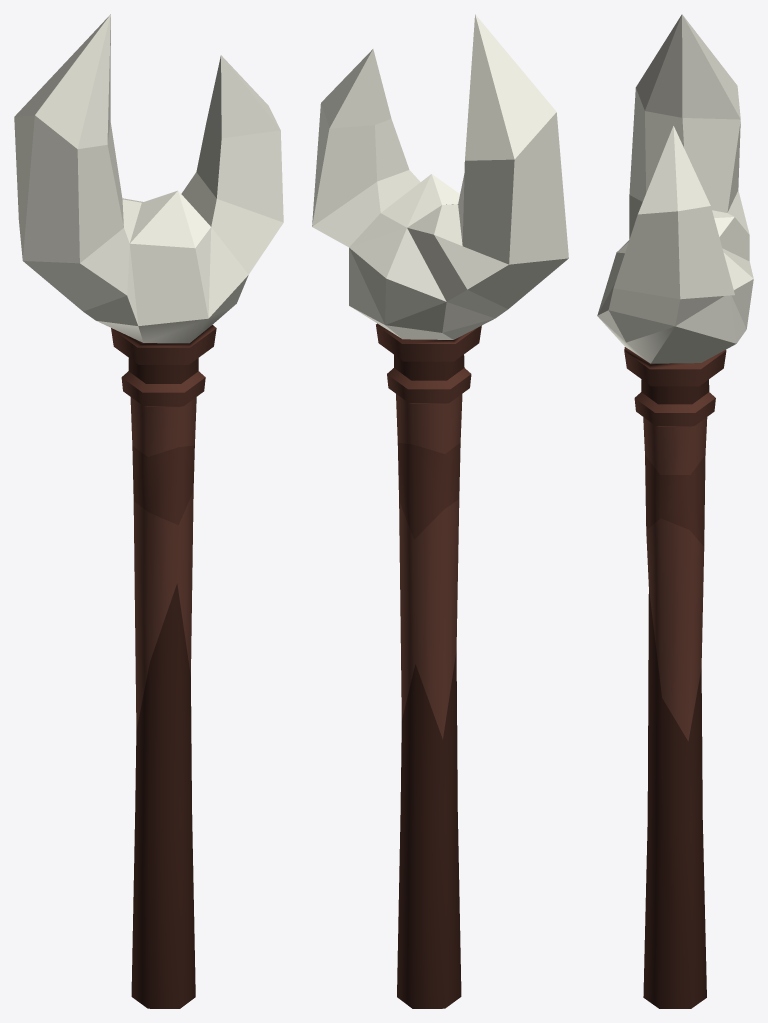
The model's file is Acc_RHand_22.fbx.
3 views of the same model, side by side, from view 1: azimuth 30°, elevation 25°; view 2: azimuth 150°, elevation 25°; view 3: azimuth 270°, elevation 25° (orthographic). The views are drawn at different scales.
Visible parts, largest first — view 1: Acc_RHand_22; view 2: Acc_RHand_22; view 3: Acc_RHand_22.
Boxes of the visible parts, x1,y1,x2,y2 form: Acc_RHand_22: (14, 14, 283, 1008); Acc_RHand_22: (312, 14, 568, 1008); Acc_RHand_22: (597, 14, 753, 1008).
Size of the model in its own units: 19.73 by 76.69 by 11.22.
